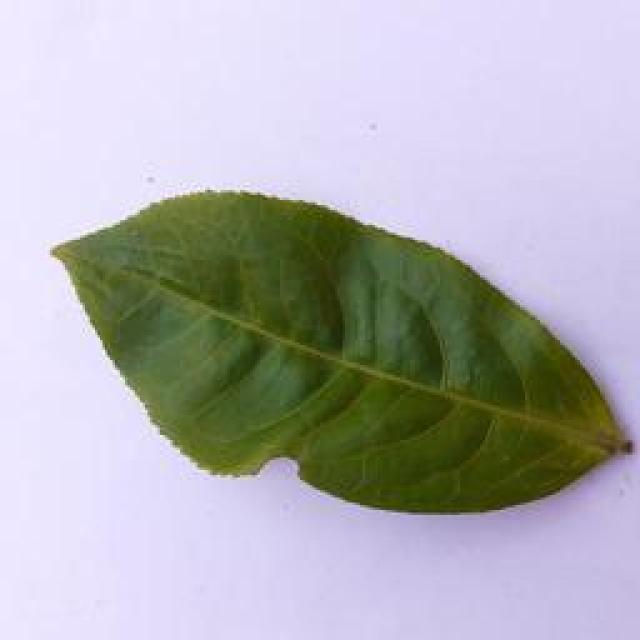Healthy: (32, 172, 640, 512)
